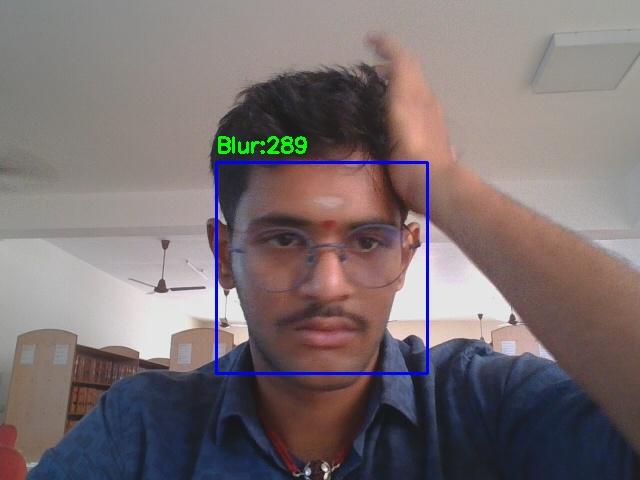real: (216, 162, 427, 373)
